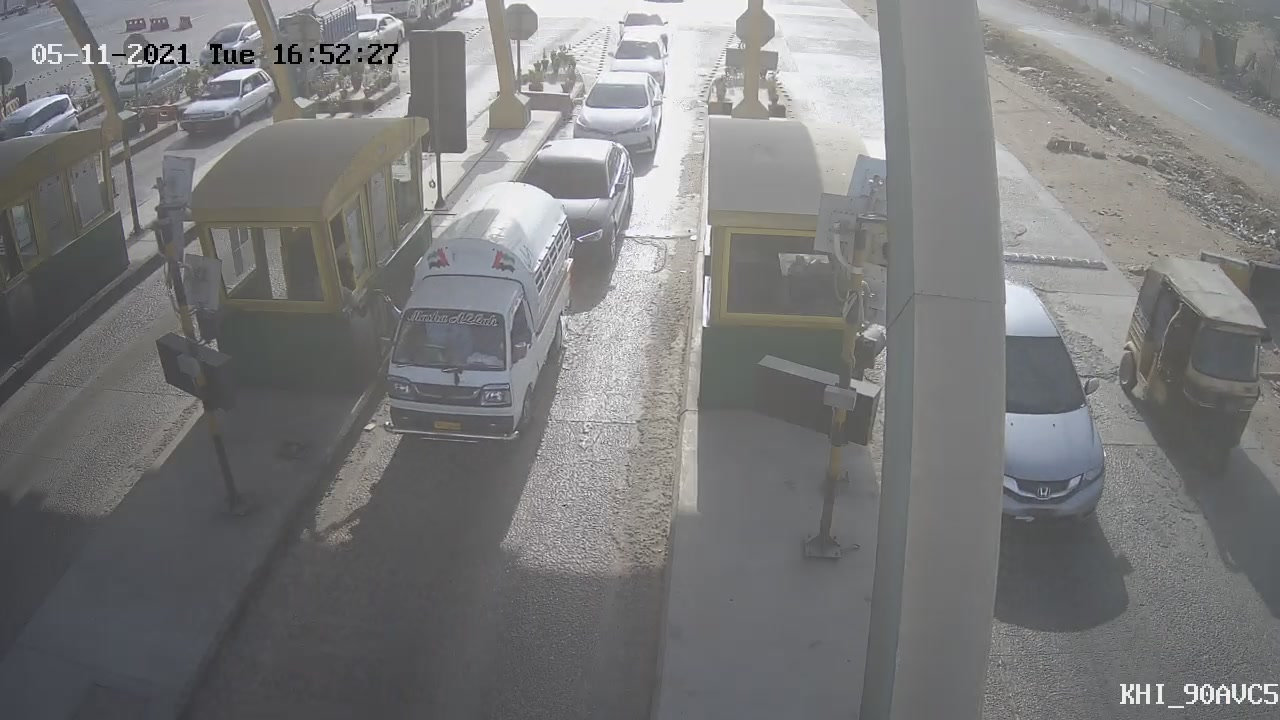F1: (370, 188, 578, 458), (555, 56, 679, 168)
